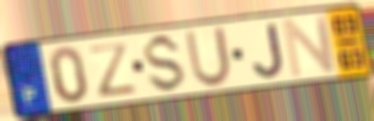0: (47, 43, 91, 106)
J: (251, 21, 287, 80)
N: (280, 12, 339, 80)
S: (143, 32, 189, 95)
U: (183, 25, 234, 89)
Z: (85, 40, 140, 99)
